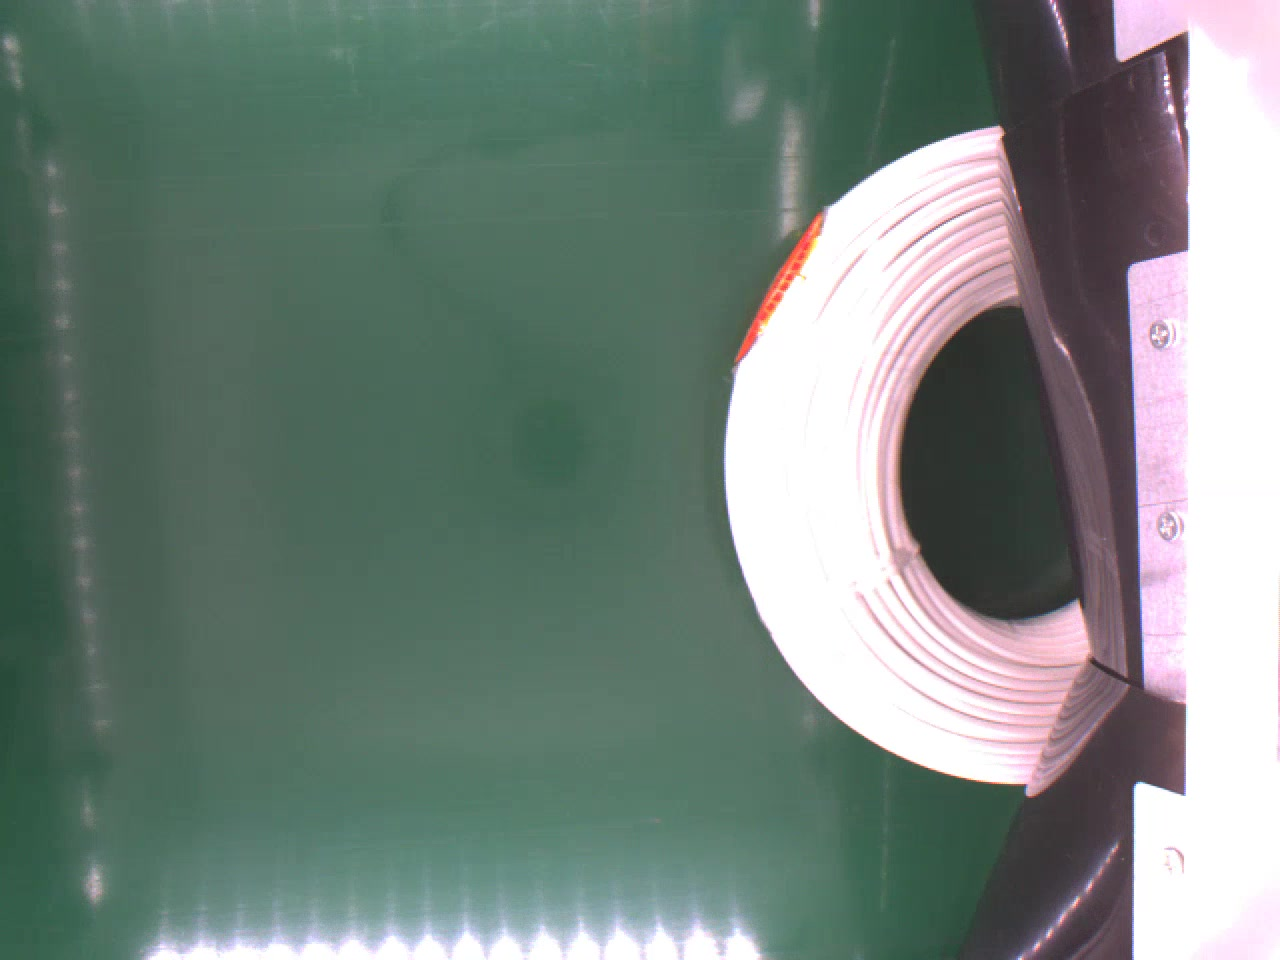white: (718, 121, 1083, 786)
